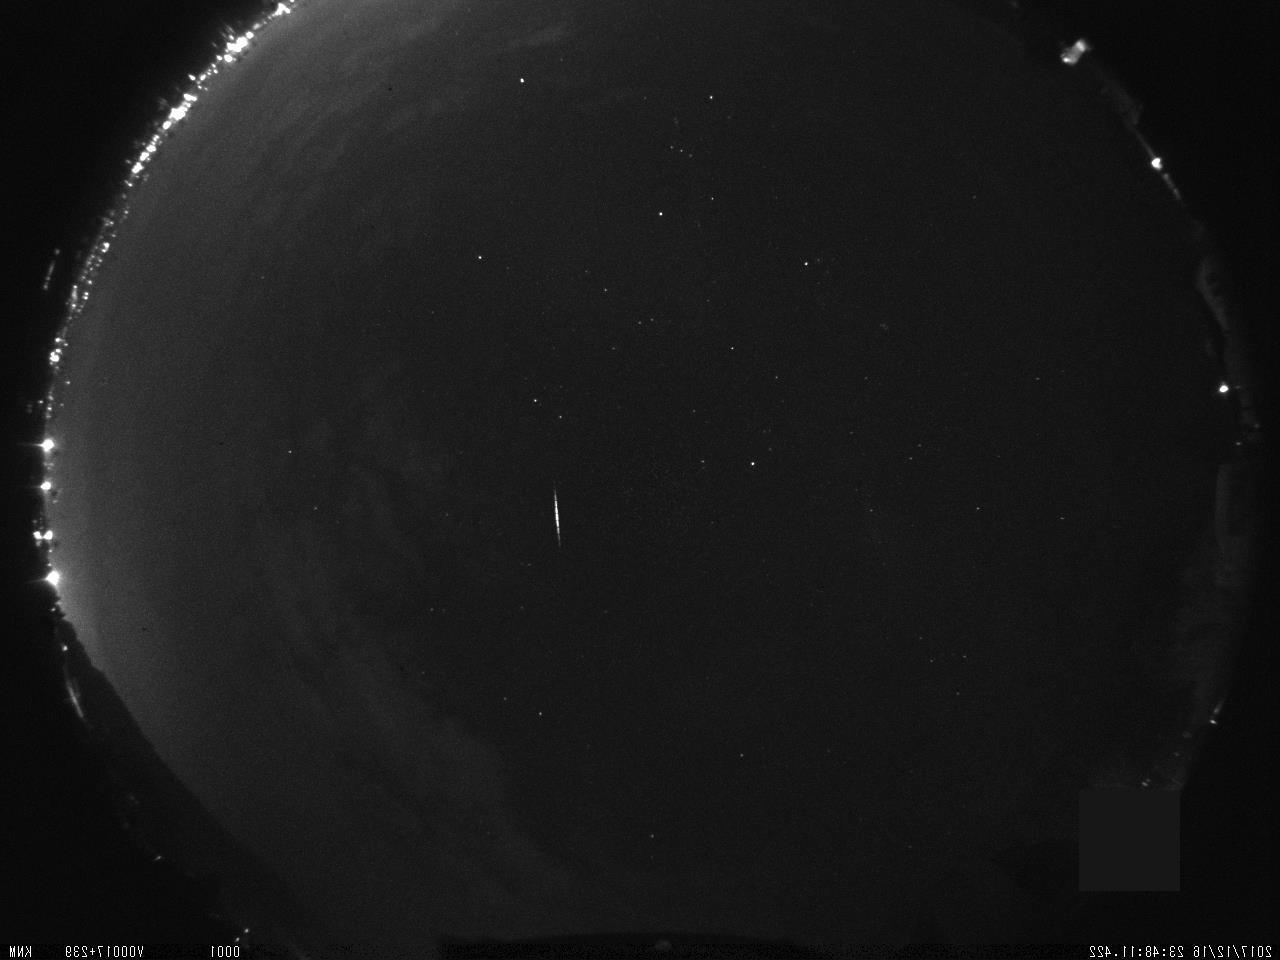meteor: (533, 476, 580, 551)
